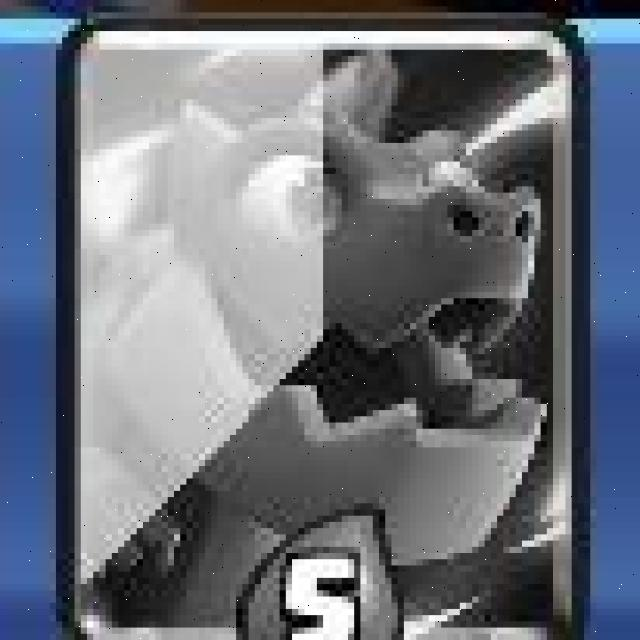Electro_Dragon: (57, 14, 595, 640)
